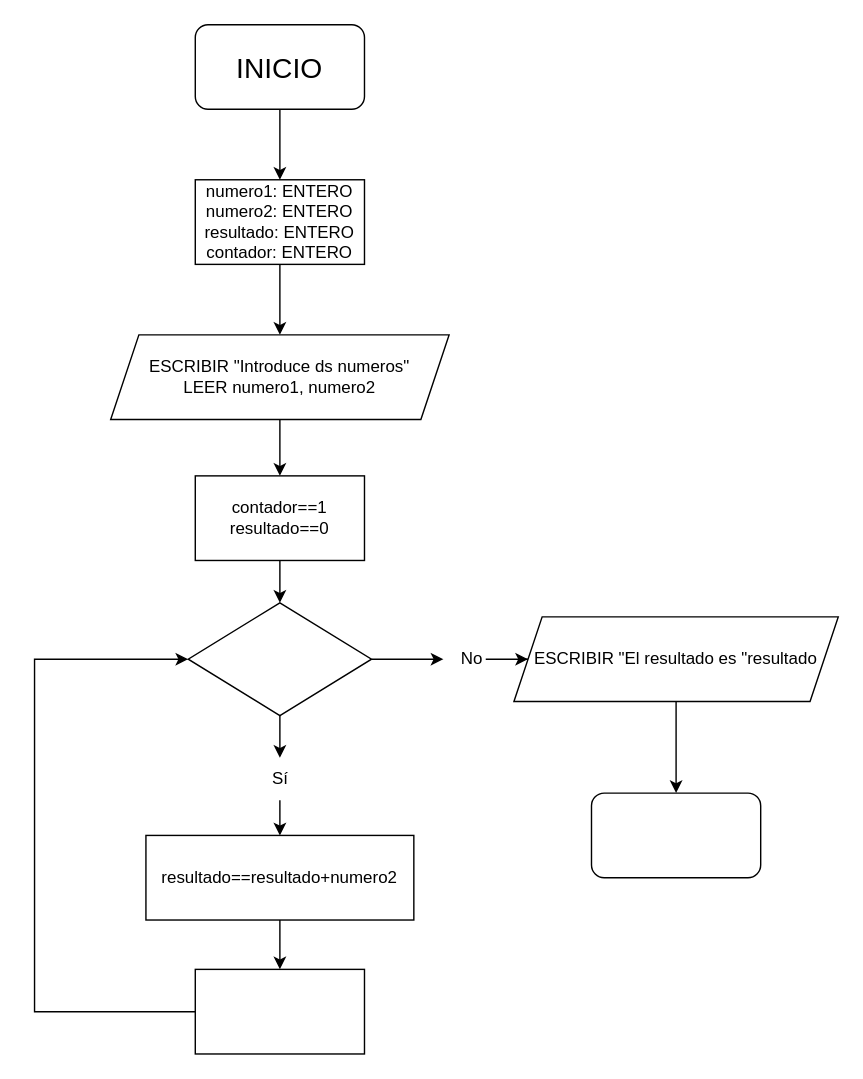
Some shapes in this 863 by 1079 pixel diagram are drawn without their labels. The shapes that lost their labels are listed below. From the top down, each one's centre as x and y in pixels, then its label:
At [279,658]: "contador<=numero1".
At [675,835]: "FIN".
At [279,1011]: "contador++".
